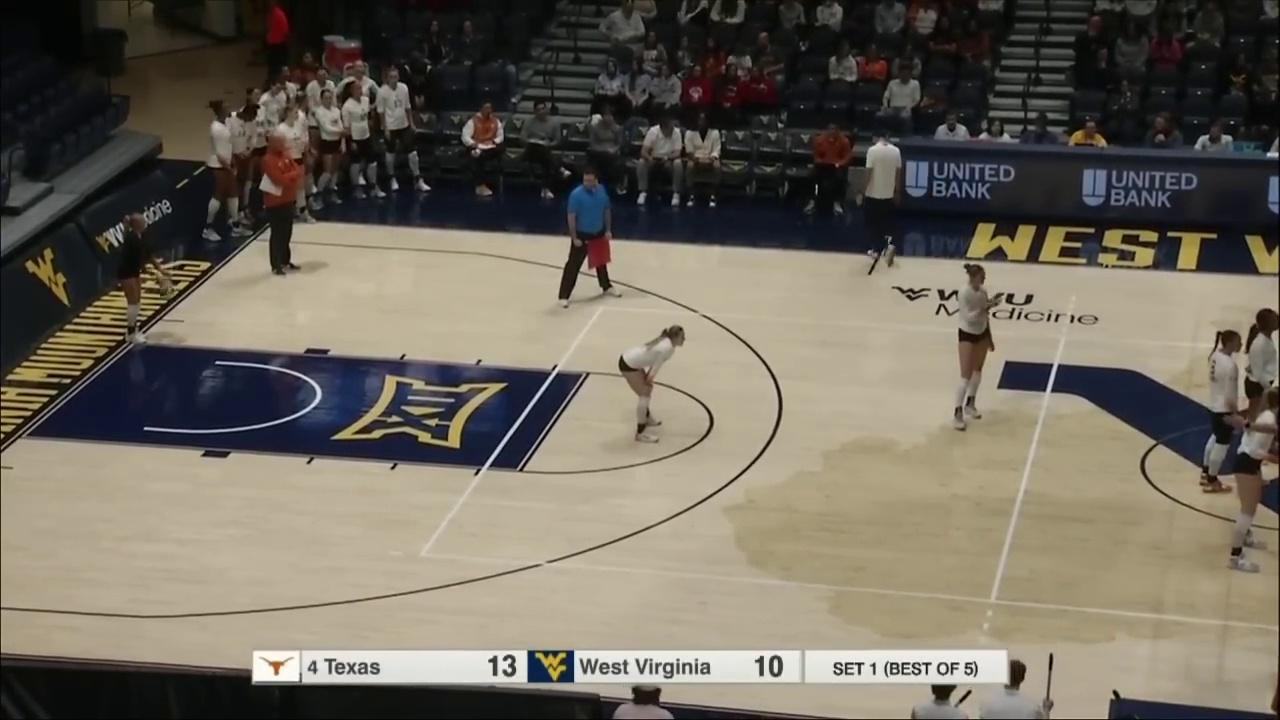player: (1222, 393, 1280, 573), (616, 322, 689, 448), (1194, 324, 1245, 499), (110, 208, 171, 351), (953, 264, 1002, 433), (1237, 301, 1280, 472)
refree: (554, 165, 625, 310)
